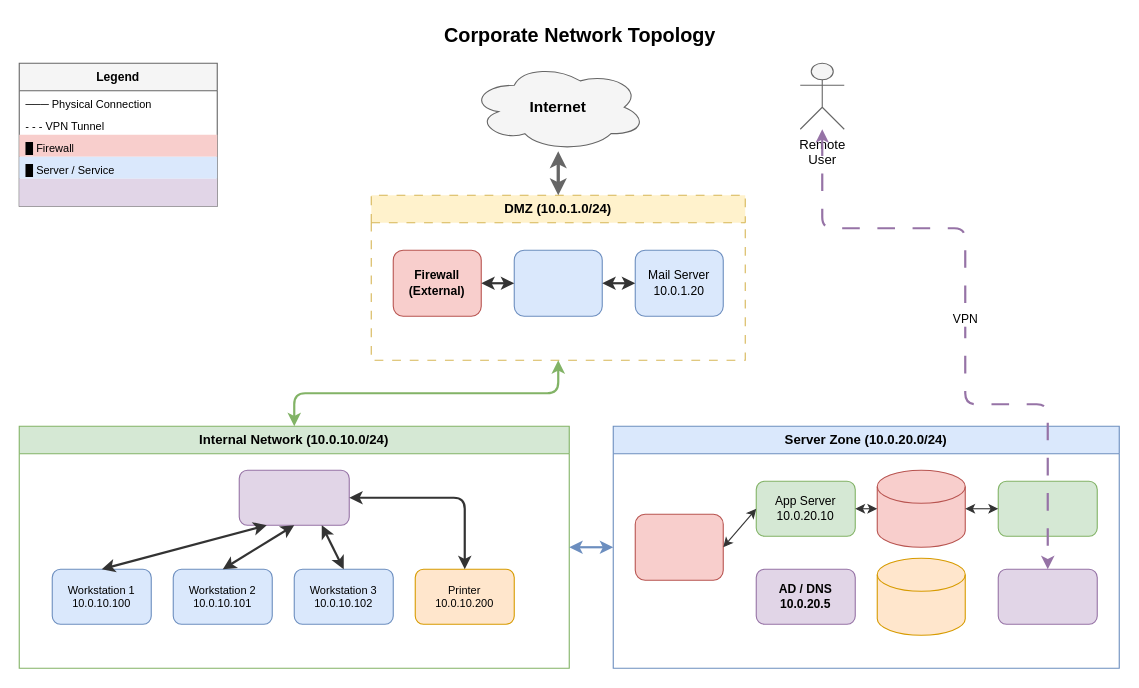
Some shapes in this 1139 by 688 pixel diagram are drawn without their labels. The shapes that lost their labels are listed below. From the top down, each one's centre as x and y in pixels, then its label:
At [118,192]: "█ Network Device".
At [557,282]: "Web Server 10.0.1.10".
At [293,497]: "Core Switch 10.0.10.1".
At [920,508]: "Database 10.0.20.20".
At [1047,508]: "File Server 10.0.20.30".
At [678,546]: "Firewall (Internal)".
At [920,596]: "Backup 10.0.20.40".
At [1047,596]: "VPN Gateway".
